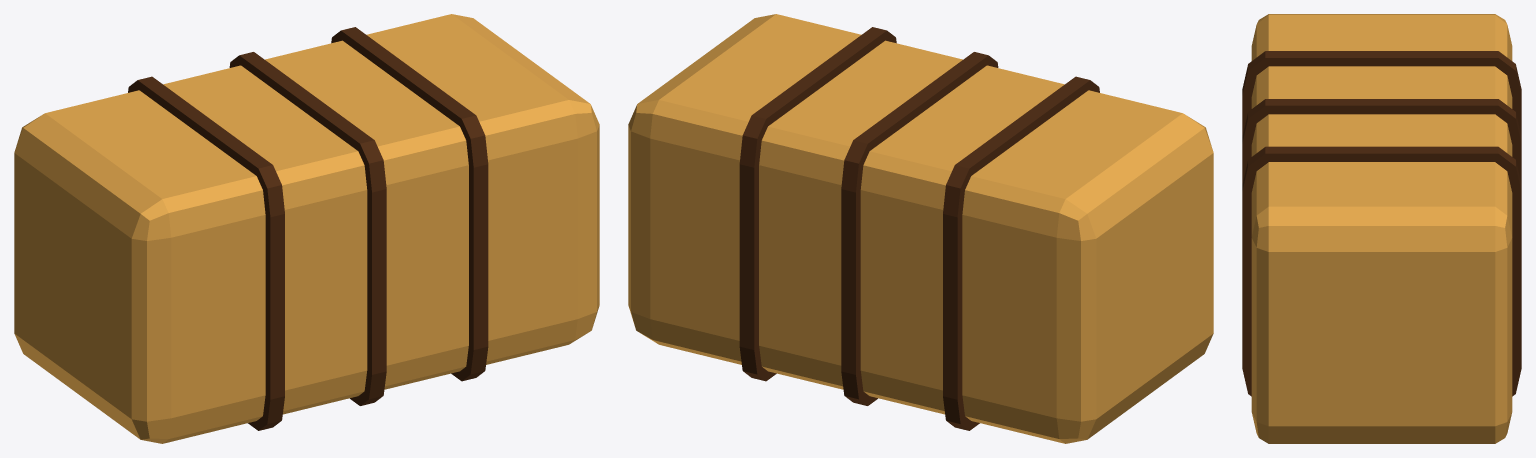
File: bale.fbx
The picture shows the model from 3 angles, left to right: view 1: azimuth 30°, elevation 25°; view 2: azimuth 150°, elevation 25°; view 3: azimuth 270°, elevation 25°; orthographic projection. The views are drawn at different scales.
Visible parts, largest first — view 1: bale; view 2: bale; view 3: bale.
Boxes of the visible parts, x1,y1,x2,y2 form: bale: (14,14,599,443); bale: (628,14,1213,443); bale: (1242,14,1521,443).
Size of the model in its own units: 1 by 0.5359 by 0.5359.
